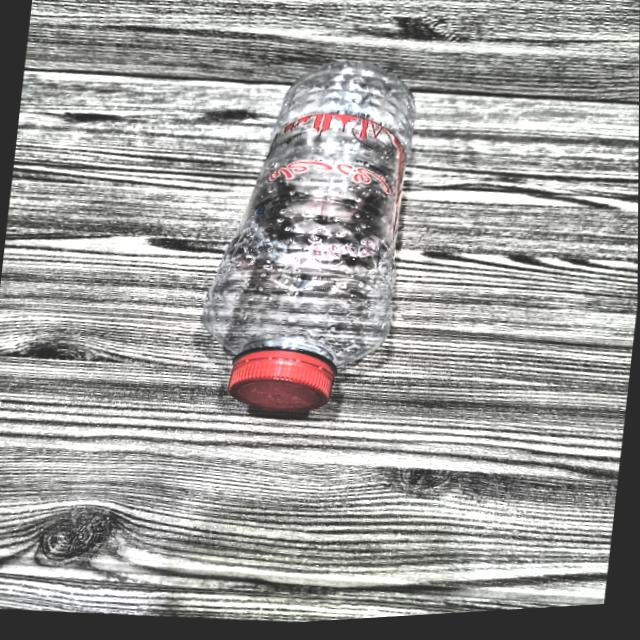Bottles: (175, 28, 453, 445)
